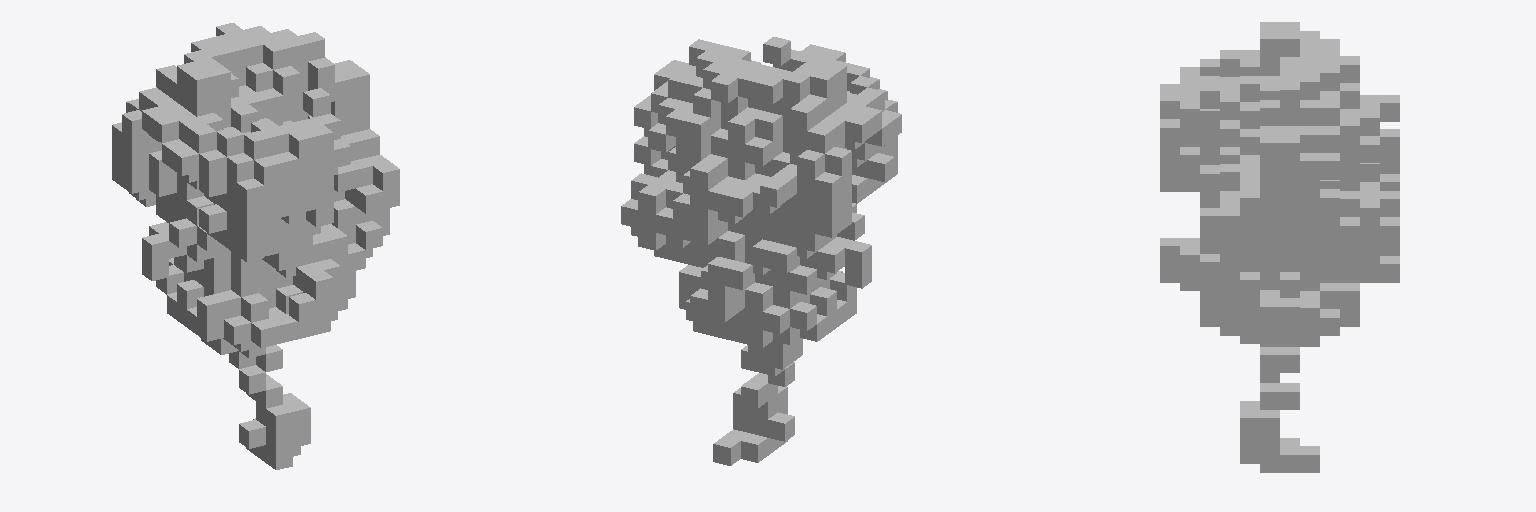
Rendered from tree.obj.
3 renders of one model, left to right at view 1: azimuth 30°, elevation 25°; view 2: azimuth 150°, elevation 25°; view 3: azimuth 270°, elevation 25°, orthographic.
Visible parts, largest first — view 1: object 1; view 2: object 1; view 3: object 1.
Boxes of the visible parts, box(x1,y1,x2,y2) form: object 1: box(112, 23, 399, 469); object 1: box(621, 37, 901, 465); object 1: box(1160, 22, 1399, 472).
Bounding box in the file's own units: 1.2 × 2.2 × 1.2.